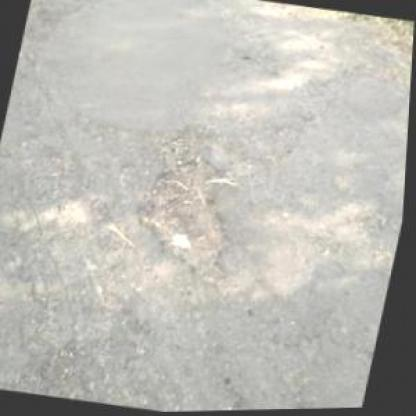pothole: (122, 115, 262, 291)
